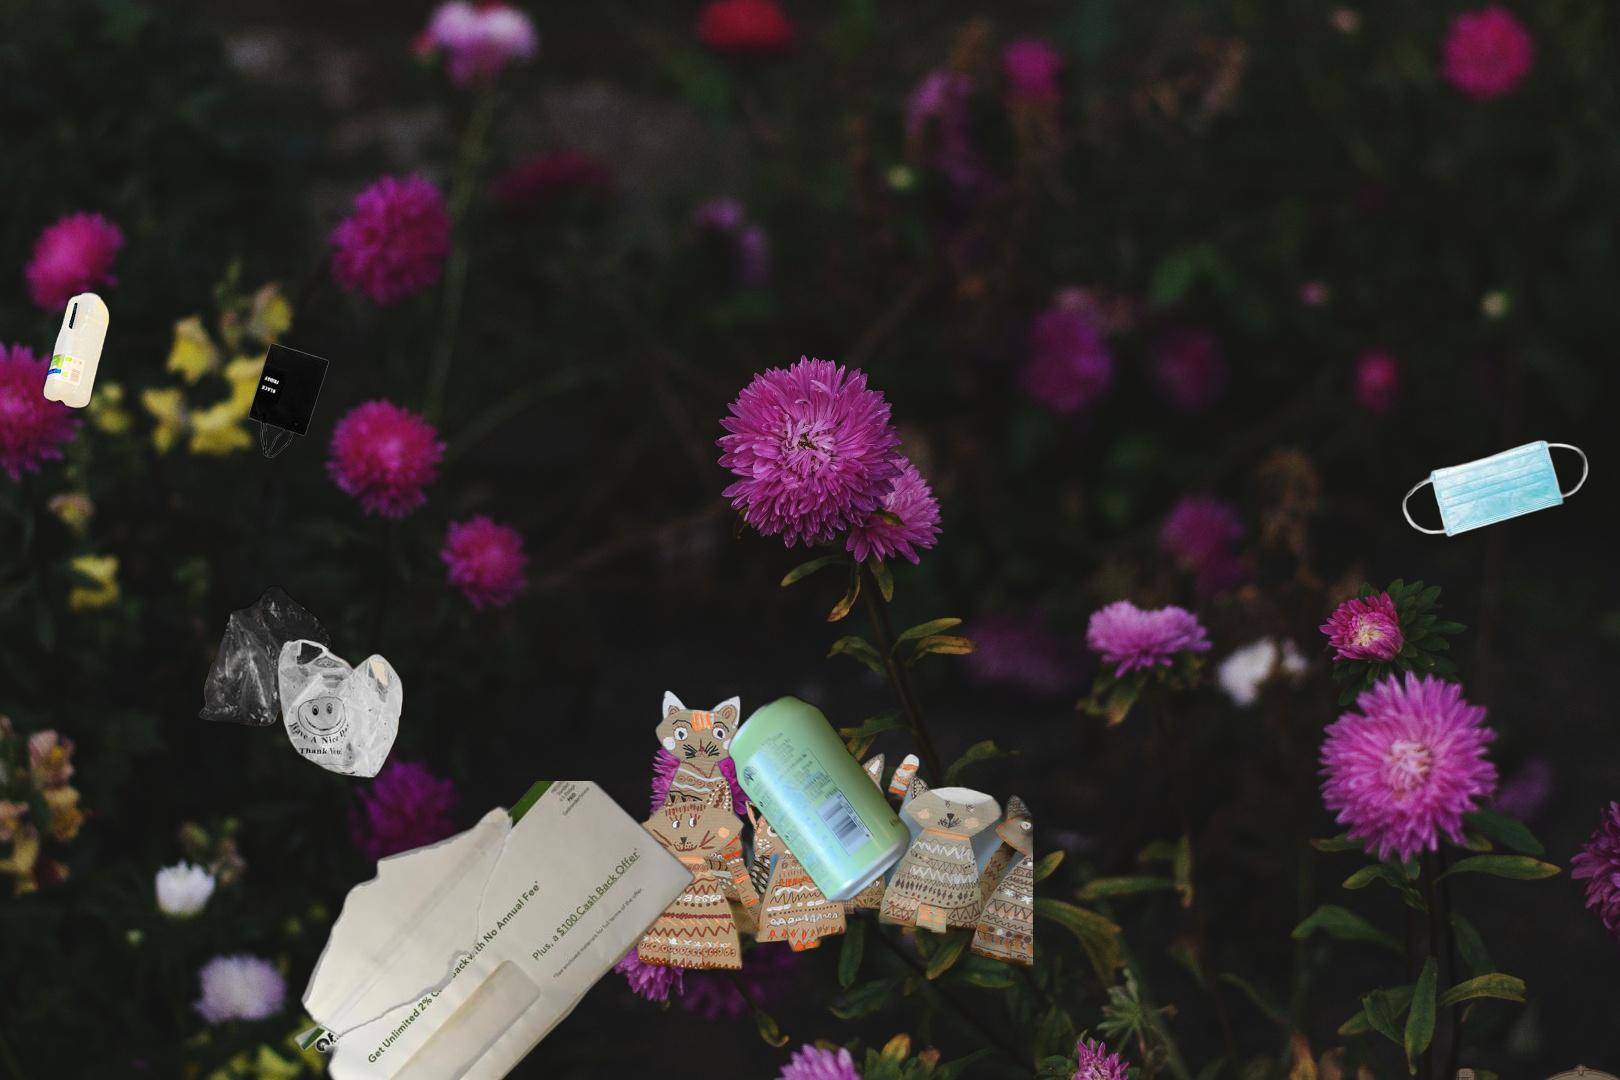clothes: (1387, 1057, 1620, 1080)
metal-cans: (723, 688, 916, 909)
paper: (243, 781, 699, 1080)
paper-bag: (245, 340, 331, 460)
plastic-bag: (195, 585, 406, 781)
plastic-bottles: (39, 286, 115, 413)
trash: (1399, 438, 1591, 540)
trashbox-cardboard: (560, 687, 1033, 984)
